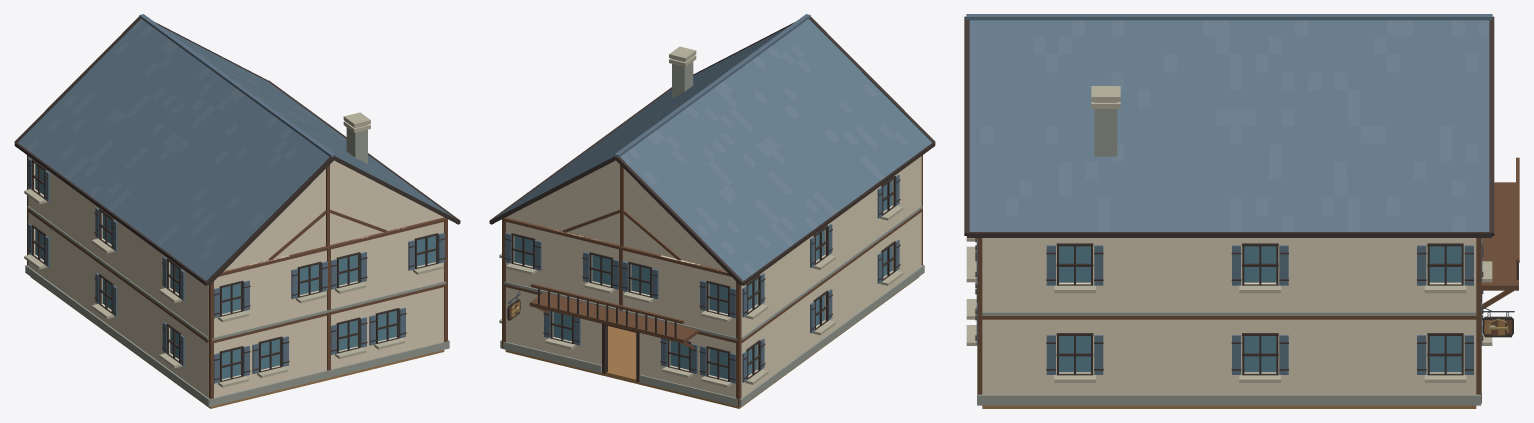
The model's file is SM_Inn.glb.
3 views of the same model, side by side, from view 1: azimuth 30°, elevation 25°; view 2: azimuth 150°, elevation 25°; view 3: azimuth 270°, elevation 25° (orthographic). The views are drawn at different scales.
Visible parts, largest first — view 1: SM_Inn; view 2: SM_Inn; view 3: SM_Inn.
Part boxes in pixels (left/top/right/bottom): SM_Inn: left=14, top=14, right=460, bottom=408; SM_Inn: left=489, top=14, right=935, bottom=408; SM_Inn: left=964, top=14, right=1519, bottom=408.
Bounding box in the file's own units: 13.06 × 11.27 × 17.99.
